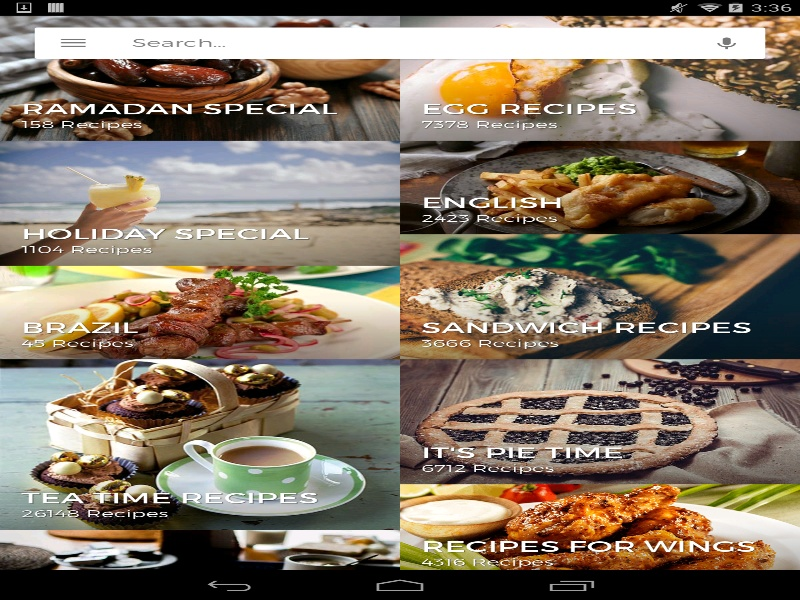Input: (132, 28, 764, 58)
